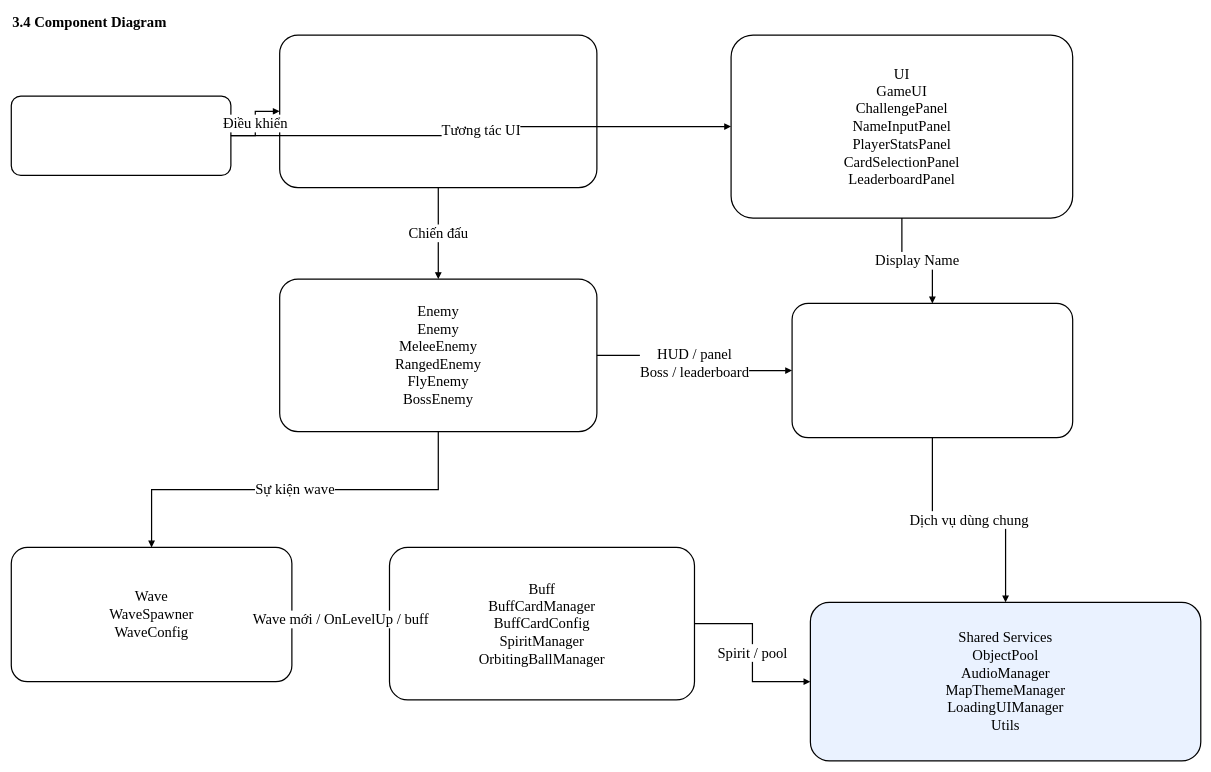
Some shapes in this 1211 by 772 pixel diagram are drawn without their labels. Here are the shapes that lost their labels. From the top down, the centre of each, then its label:
At (438,111): "Player PlayerController PlayerAttack PlayerHealth PlayerLevelSystem".
At (120,135): "Input InputSystem_Actions".
At (932,370): "Backend PlayFabLeaderboardManager PlayFab API".
